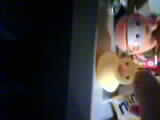duck: (95, 44, 136, 99)
